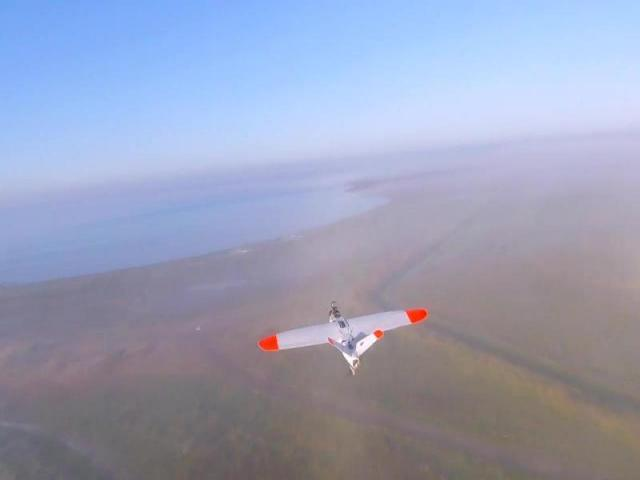hedef: (259, 293, 426, 385)
